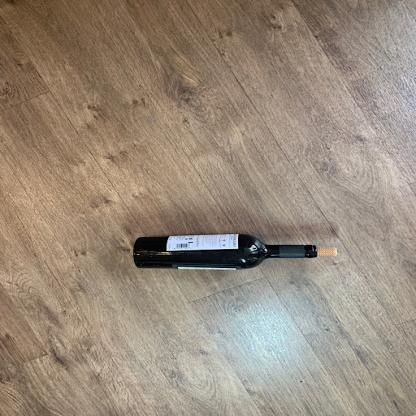trash: (126, 234, 320, 270)
